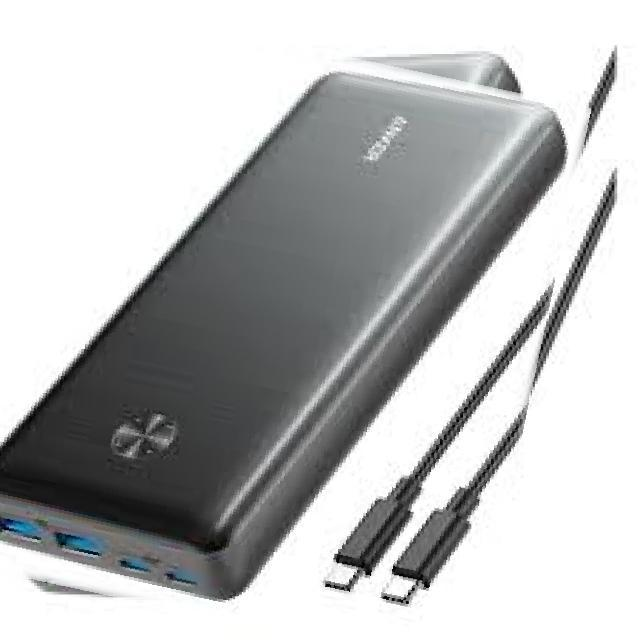Battery: (0, 58, 578, 604)
